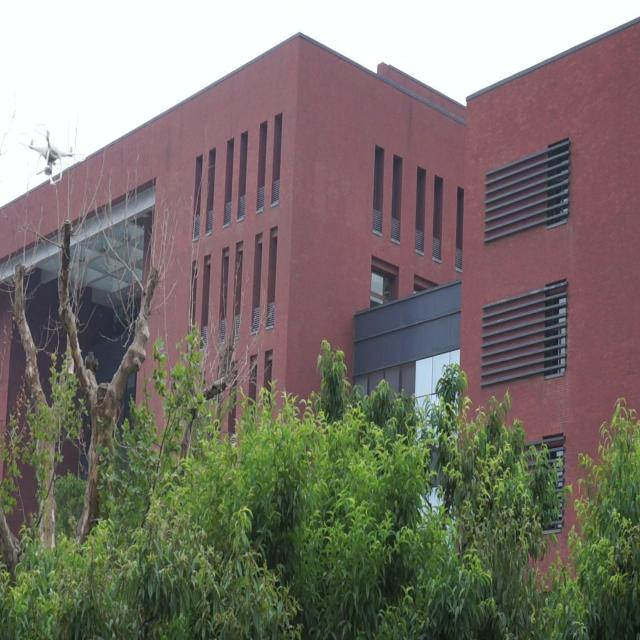drone: (18, 119, 80, 185)
